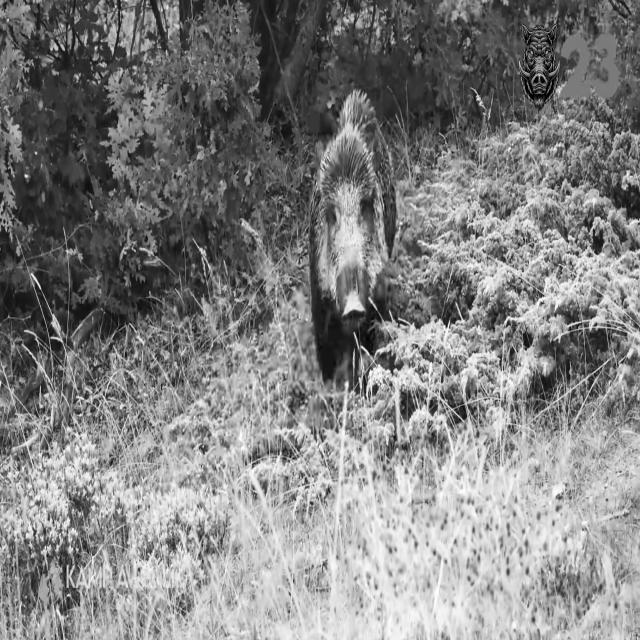boar: (309, 89, 396, 379)
